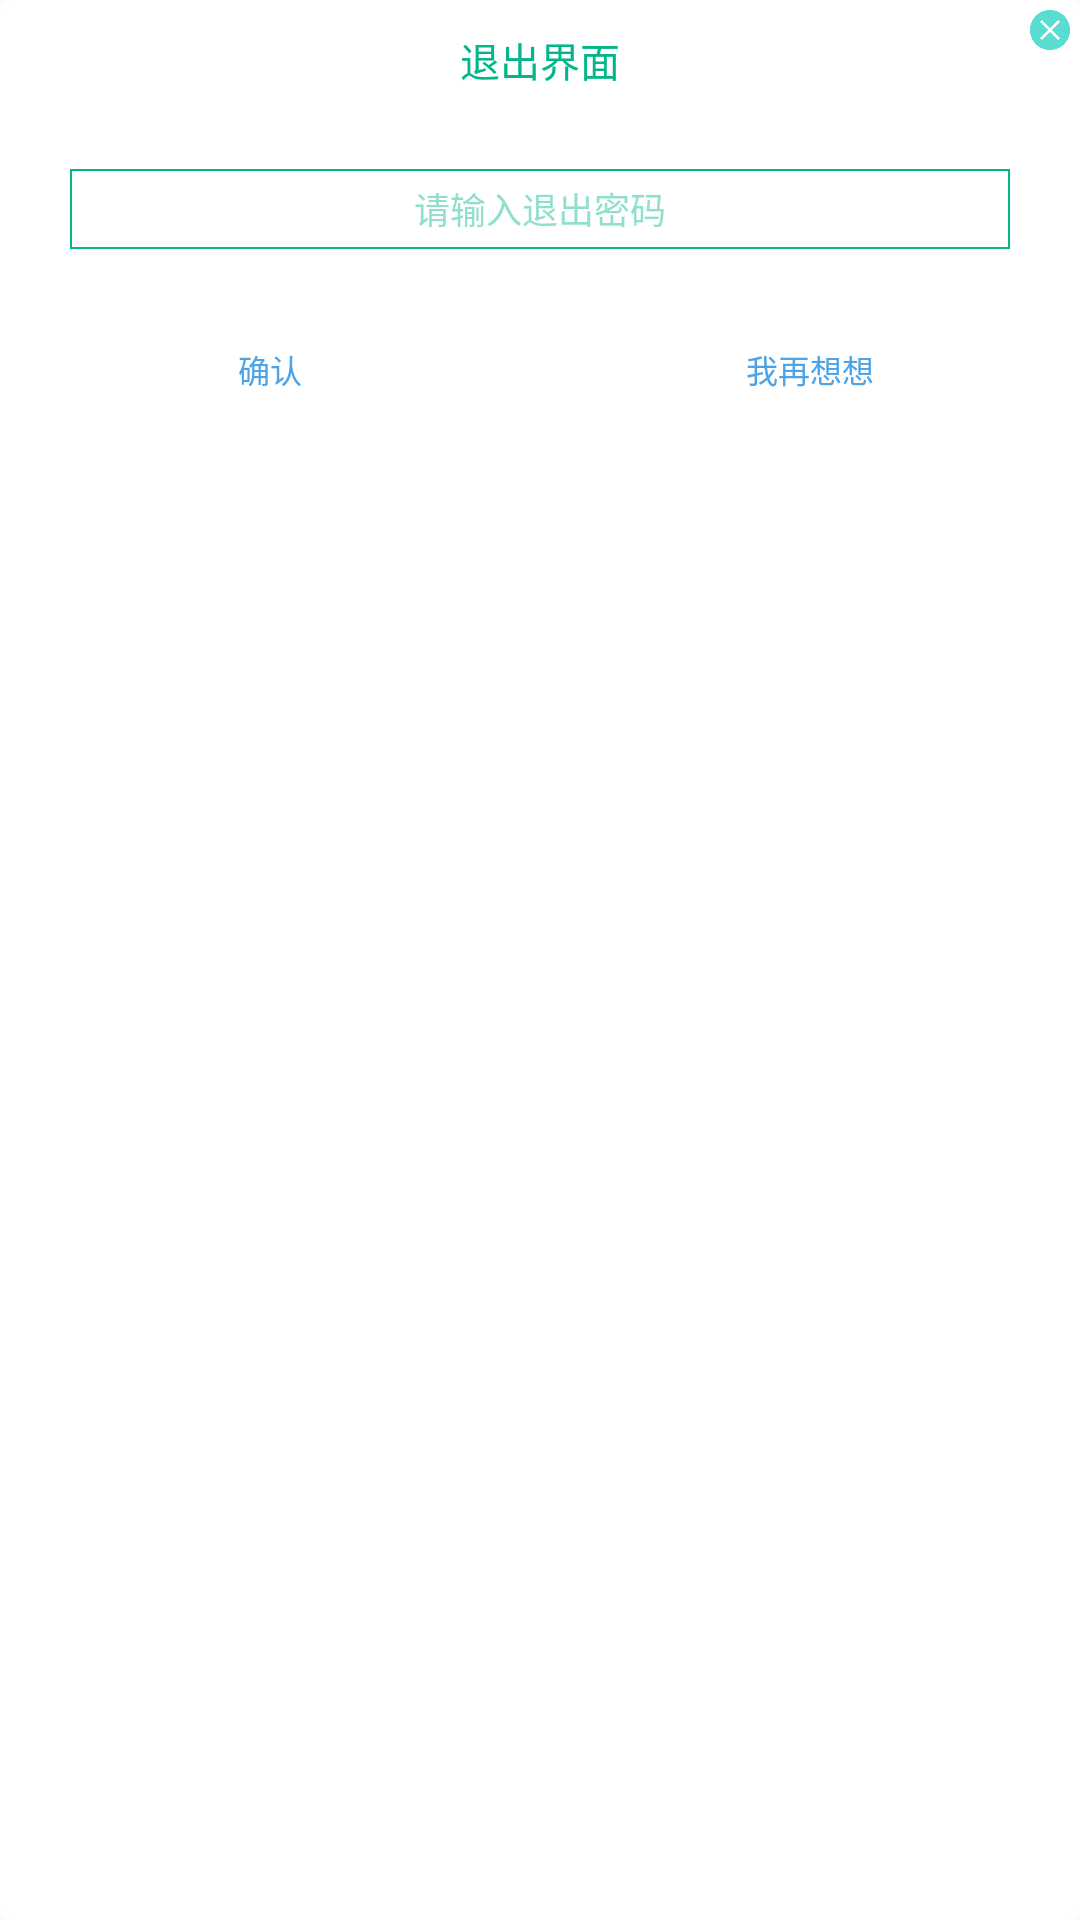

Screen size 1080px x 1920px. Icon name, then its box in pixels as (x1, y1, x2, y2):
close: (1030, 10, 1070, 50)
